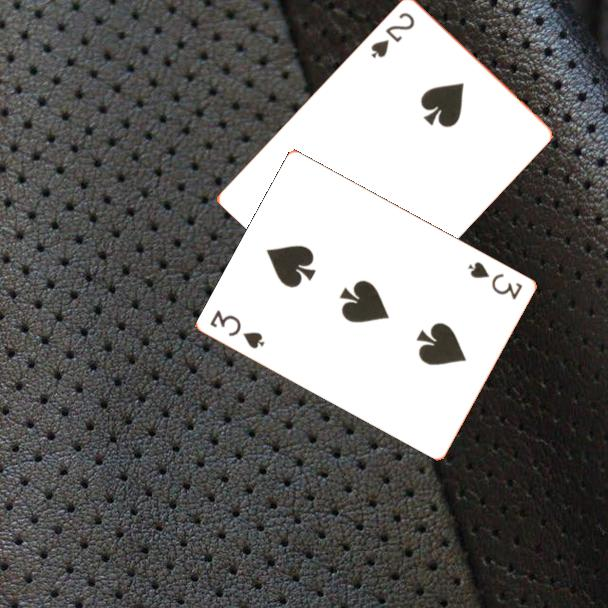s02: (367, 8, 418, 60)
s03: (206, 306, 268, 352), (464, 258, 526, 303)
